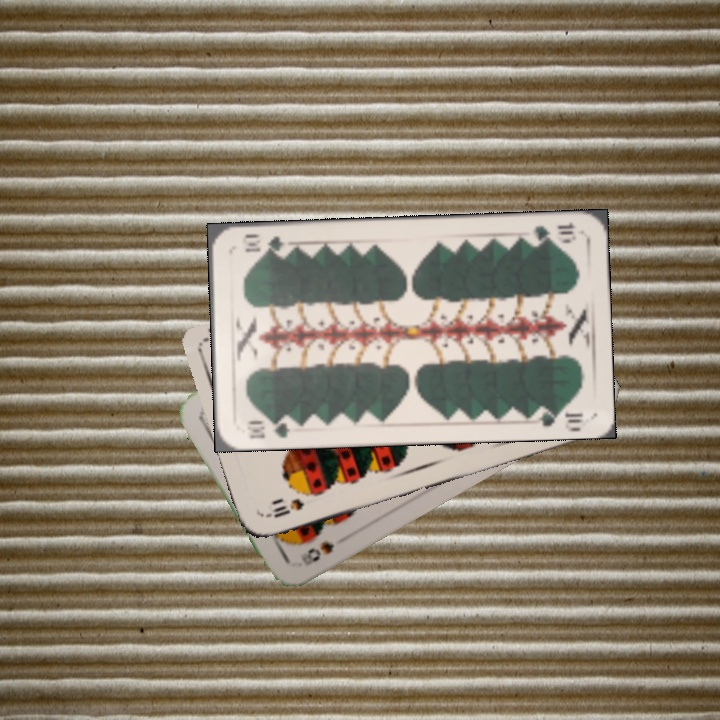G10: (529, 217, 579, 246), (245, 414, 298, 441)
S10: (262, 494, 307, 521)
S8: (297, 537, 337, 569)
